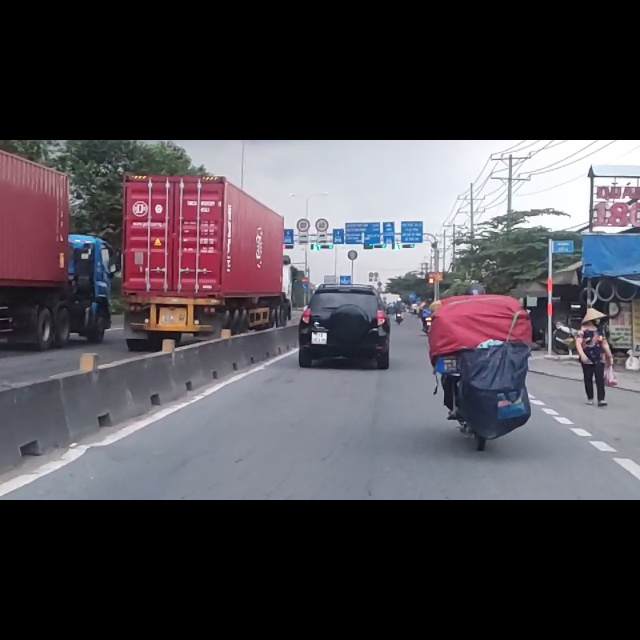bien_cam: (297, 140, 310, 164), (316, 140, 329, 162), (301, 256, 309, 267), (301, 243, 308, 255)
